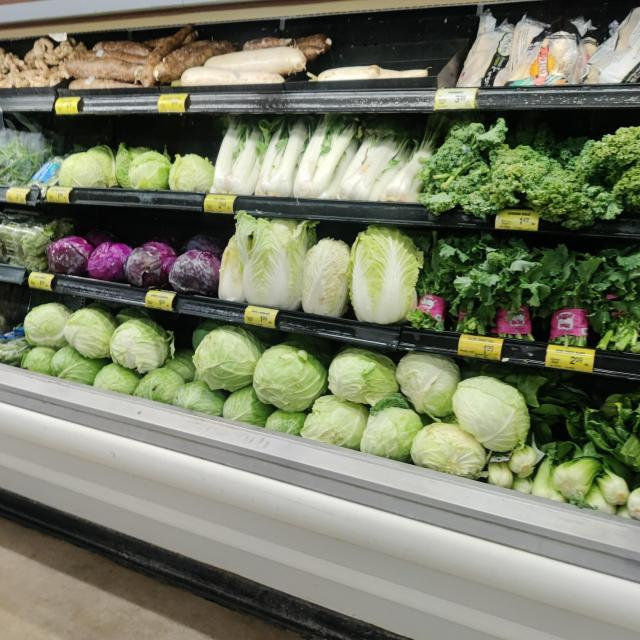Cabbage: (453, 376, 531, 453), (254, 341, 328, 411), (194, 325, 264, 391), (412, 422, 487, 479), (327, 348, 399, 405), (397, 352, 461, 416), (360, 406, 424, 465)
Lettuce: (349, 229, 415, 325), (303, 241, 350, 319), (218, 231, 246, 303), (59, 153, 109, 191), (127, 151, 171, 191), (169, 154, 215, 192)
